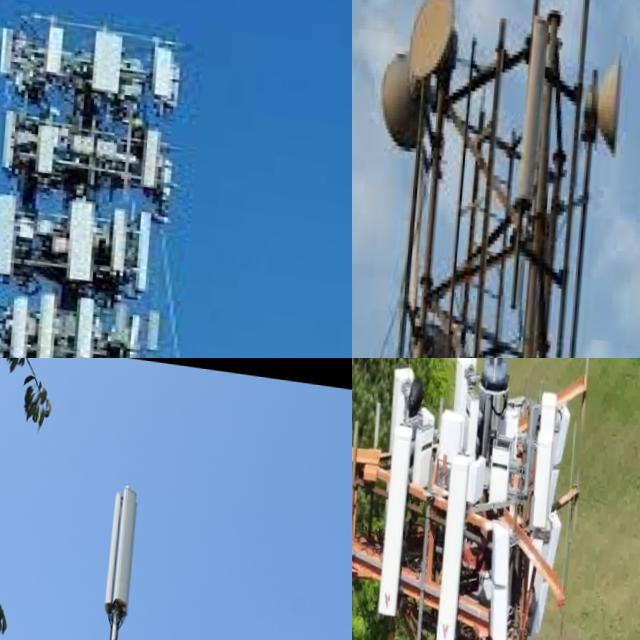GSM Antenna: (376, 406, 421, 624), (512, 9, 558, 214), (432, 437, 478, 640), (99, 473, 147, 612), (525, 381, 567, 522), (481, 509, 522, 640), (52, 185, 100, 279), (0, 187, 40, 281), (86, 15, 131, 94), (102, 196, 134, 278), (28, 109, 60, 180), (5, 291, 38, 357), (144, 38, 180, 97), (35, 283, 63, 358), (137, 203, 161, 290), (41, 13, 76, 72), (142, 118, 172, 182), (0, 100, 22, 170), (80, 288, 99, 358), (147, 304, 172, 349), (0, 22, 21, 72), (130, 308, 148, 356)
Microwave Antenna: (378, 39, 432, 155), (402, 0, 467, 85), (592, 39, 632, 154), (397, 303, 463, 358)
